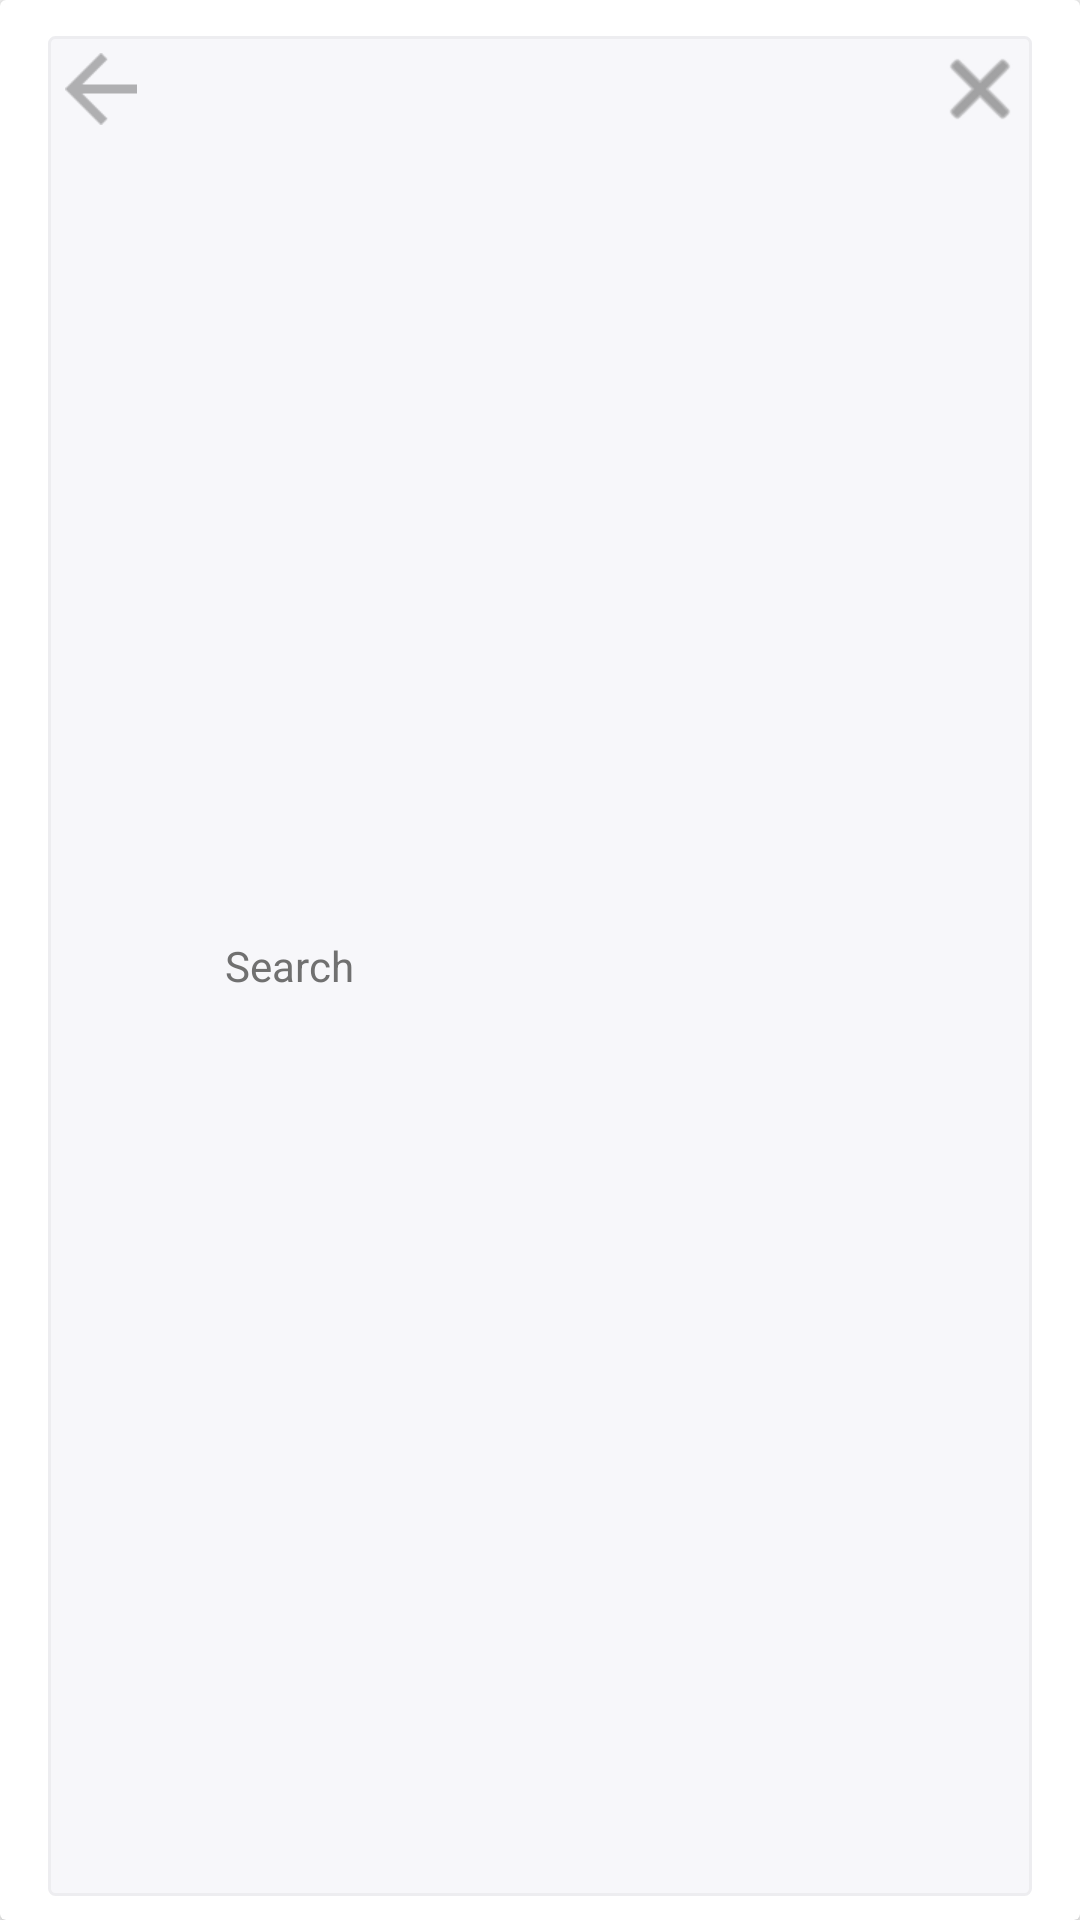

Locate icon controls on the screen. Image size 1080×1920, boxes as [x1,y1,x2,y2].
close clear cancel: [950,59,1010,119]
food back: [65,53,137,125]
